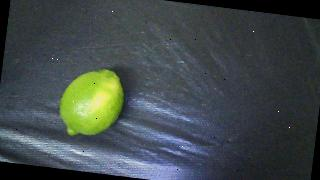LOCAL: (56, 64, 127, 141)
